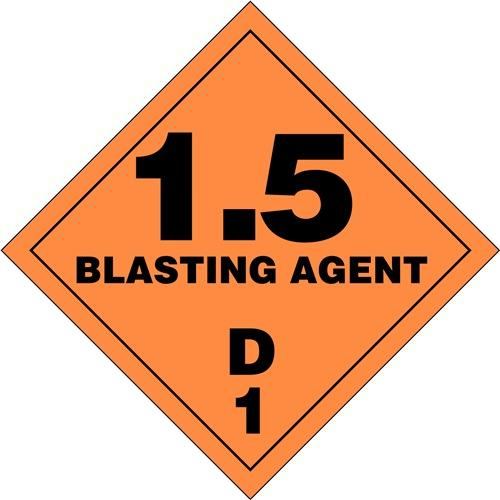explosive: (1, 1, 500, 500)
